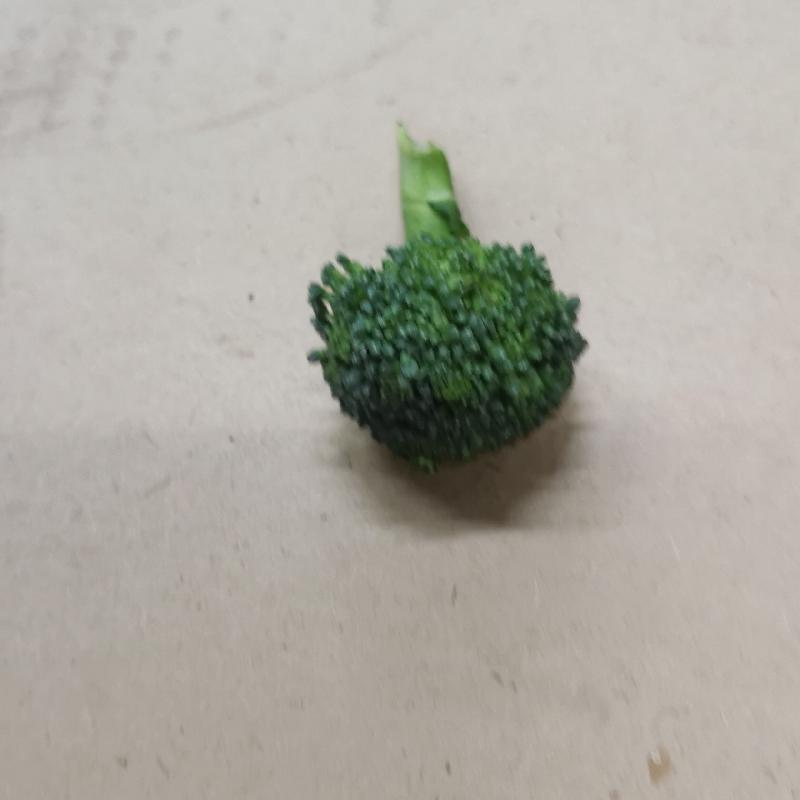broccoli: (307, 118, 586, 478)
